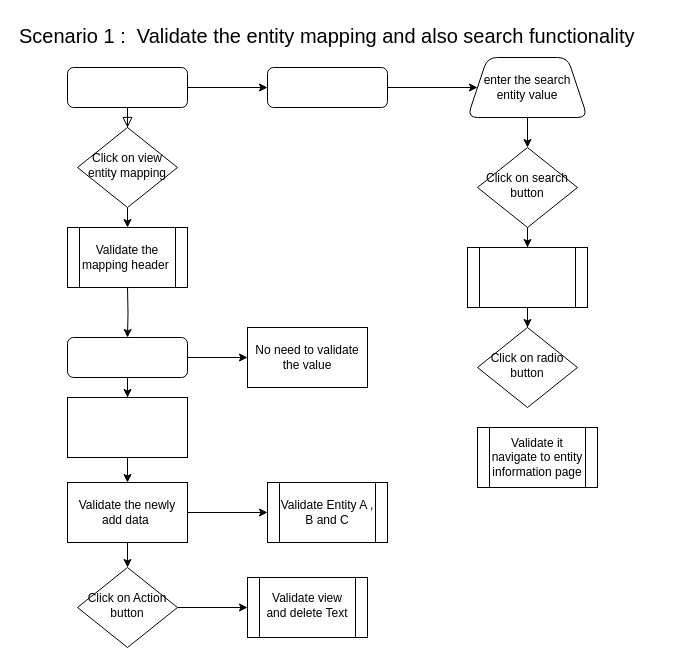
Some shapes in this 684 by 665 pixel diagram are drawn without their labels. The shapes that lost their labels are listed below. From the top down, each one's box as (x1, y1, x2, y2) in pixels, then its label:
(66, 66, 188, 108): Launch the url
(266, 66, 388, 108): Navigate to search for entity
(466, 246, 588, 308): Validate the entity data
(66, 336, 188, 378): add mapping using API
(66, 396, 188, 458): Refresh the page
